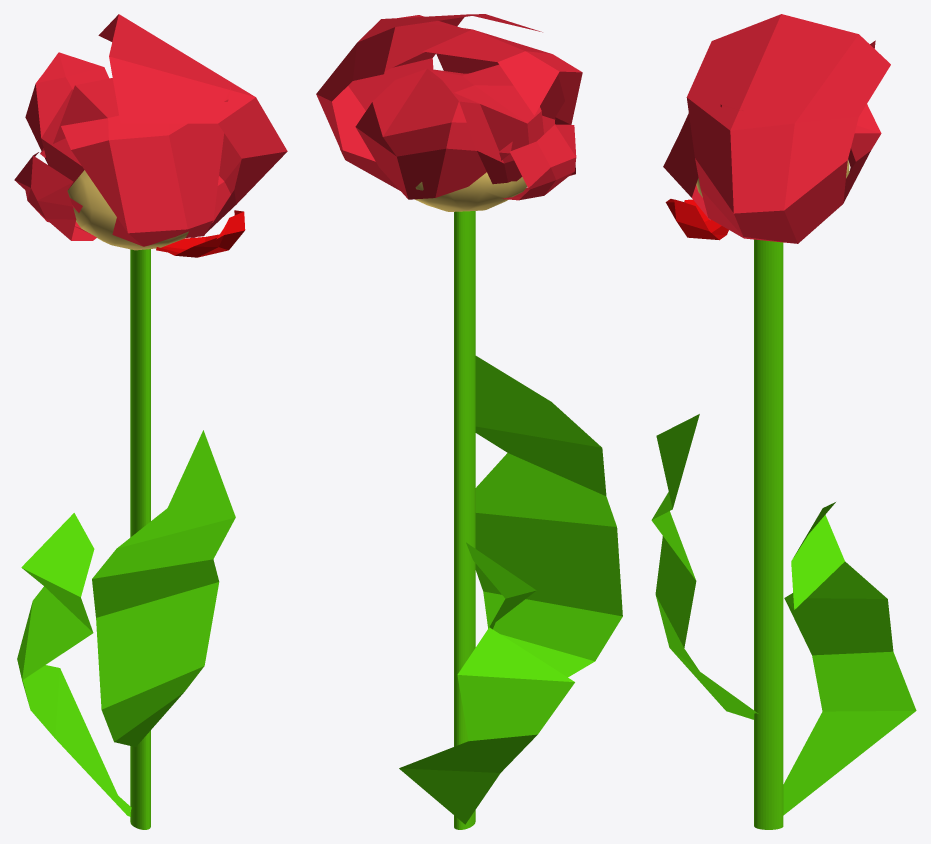
File: Flowafirst (1).glb
3 renders of one model, left to right at view 1: azimuth 30°, elevation 25°; view 2: azimuth 150°, elevation 25°; view 3: azimuth 270°, elevation 25°, orthographic. The views are drawn at different scales.
Visible parts, largest first — view 1: Plane.029, Plane, Plane.001, Plane.021, Cylinder, Plane.004, Plane.006, keski.001, Plane.003; view 2: Plane.029, Plane.021, Plane.002, Cylinder, Plane, Plane.001, Plane.004, Plane.006, keski.001; view 3: Plane.001, Plane.021, Cylinder, Plane.029, Plane, Plane.002, Plane.003.
Boxes of the visible parts, bbox=[...] form: Plane.029: bbox=[92, 430, 235, 746]; Plane: bbox=[53, 78, 230, 246]; Plane.001: bbox=[98, 14, 287, 237]; Plane.021: bbox=[17, 513, 131, 816]; Cylinder: bbox=[130, 249, 150, 829]; Plane.004: bbox=[25, 52, 108, 212]; Plane.006: bbox=[14, 152, 96, 240]; keski.001: bbox=[67, 170, 188, 250]; Plane.003: bbox=[156, 210, 245, 257]; Plane.029: bbox=[475, 356, 622, 677]; Plane.021: bbox=[399, 542, 574, 824]; Plane.002: bbox=[355, 68, 512, 199]; Cylinder: bbox=[454, 211, 475, 829]; Plane: bbox=[385, 15, 582, 134]; Plane.001: bbox=[316, 14, 542, 190]; Plane.004: bbox=[429, 64, 543, 184]; Plane.006: bbox=[502, 124, 576, 200]; keski.001: bbox=[415, 172, 527, 211]; Plane.001: bbox=[686, 14, 890, 243]; Plane.021: bbox=[783, 502, 916, 815]; Cylinder: bbox=[754, 239, 783, 829]; Plane.029: bbox=[651, 414, 758, 719]; Plane: bbox=[663, 104, 743, 220]; Plane.002: bbox=[843, 104, 881, 203]; Plane.003: bbox=[665, 199, 728, 240].
Size of the model in its own units: 2.96 by 8.99 by 2.69.
